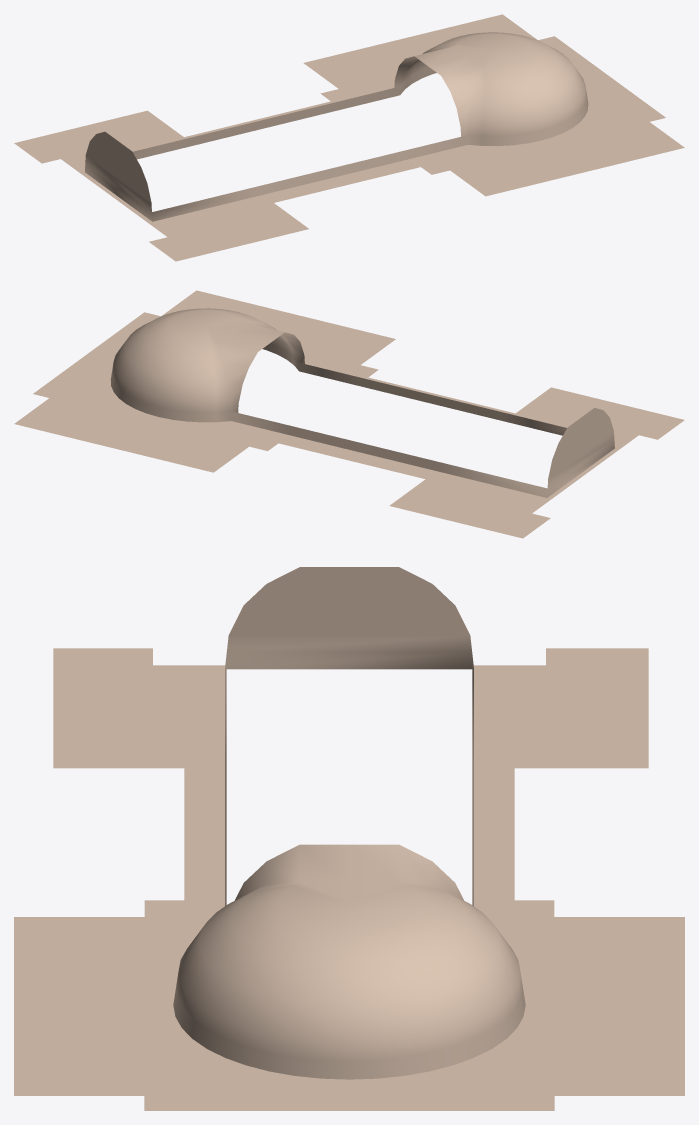
The model's file is BC_Insideceiling_A.fbx.
3 renders of one model, top to bottom at view 1: azimuth 30°, elevation 25°; view 2: azimuth 150°, elevation 25°; view 3: azimuth 270°, elevation 25°, orthographic. The views are drawn at different scales.
Parts seen in each view (by area): view 1: BC_Insideceiling_A; view 2: BC_Insideceiling_A; view 3: BC_Insideceiling_A.
Part boxes in pixels (x1,y1,x2,y2): BC_Insideceiling_A: (14, 14, 684, 261); BC_Insideceiling_A: (14, 290, 684, 538); BC_Insideceiling_A: (14, 567, 684, 1110).
Size of the model in its own units: 9541 by 983 by 5849.
